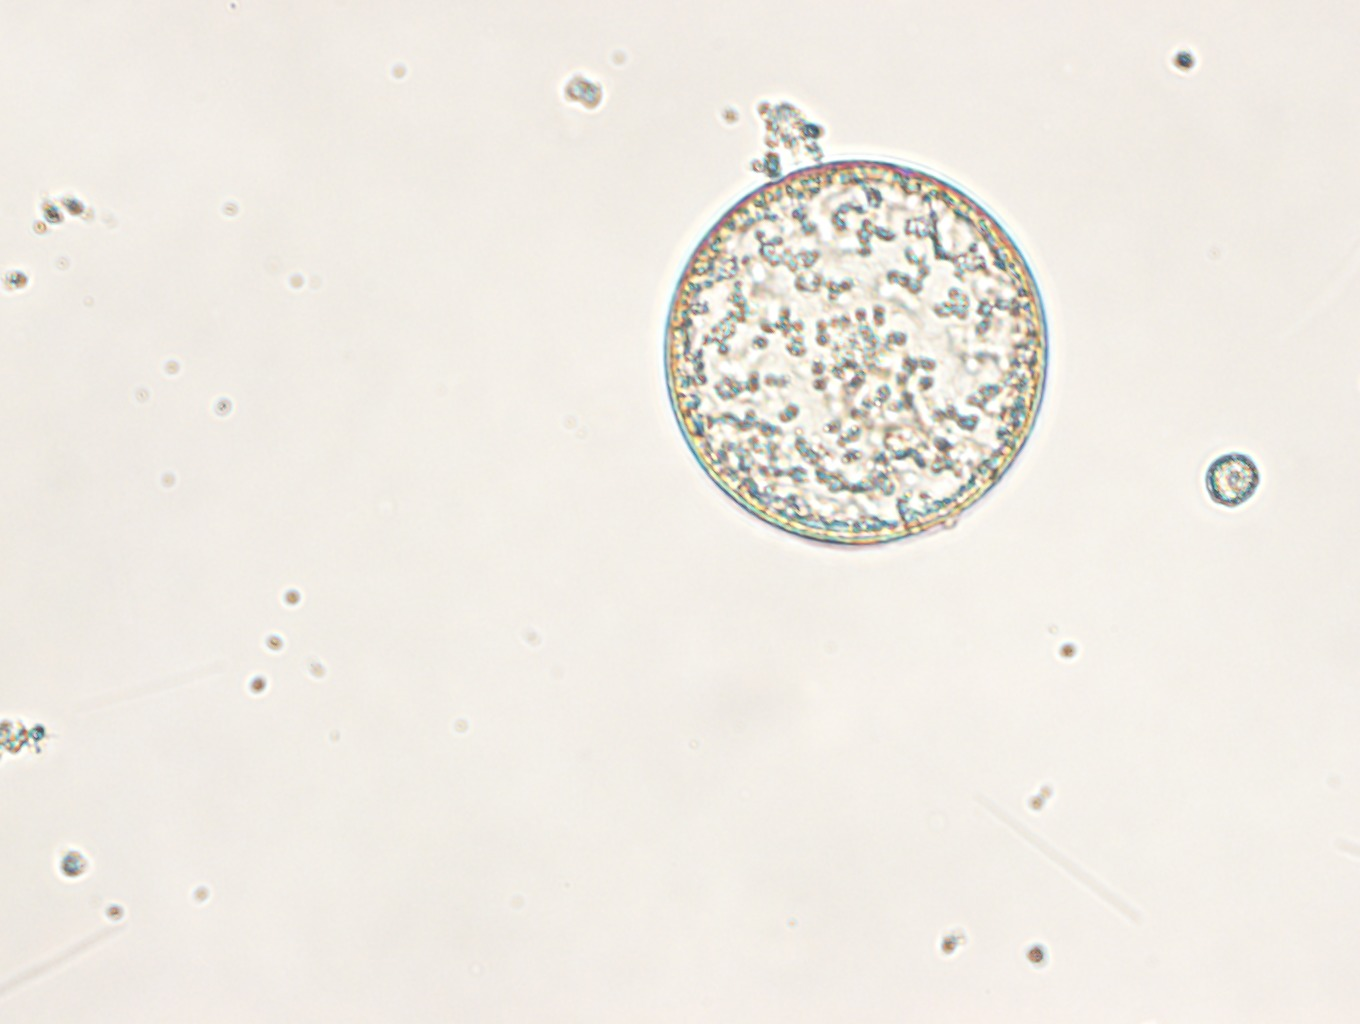coscinodiscus: (663, 158, 1050, 549)
